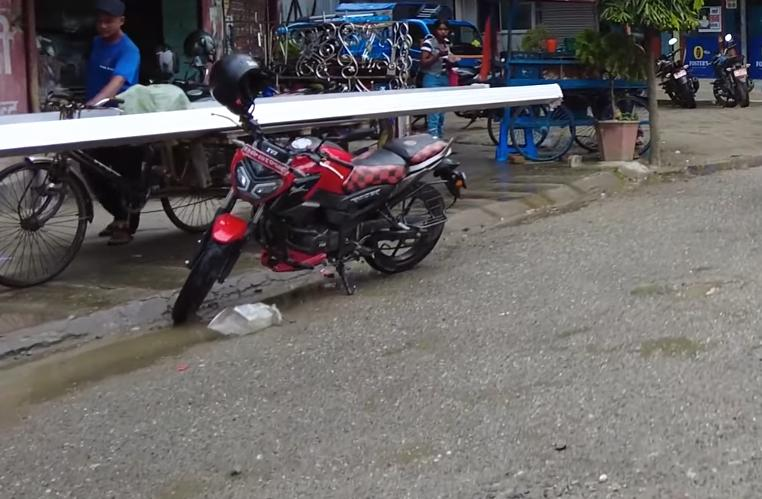bike: (166, 94, 473, 330)
